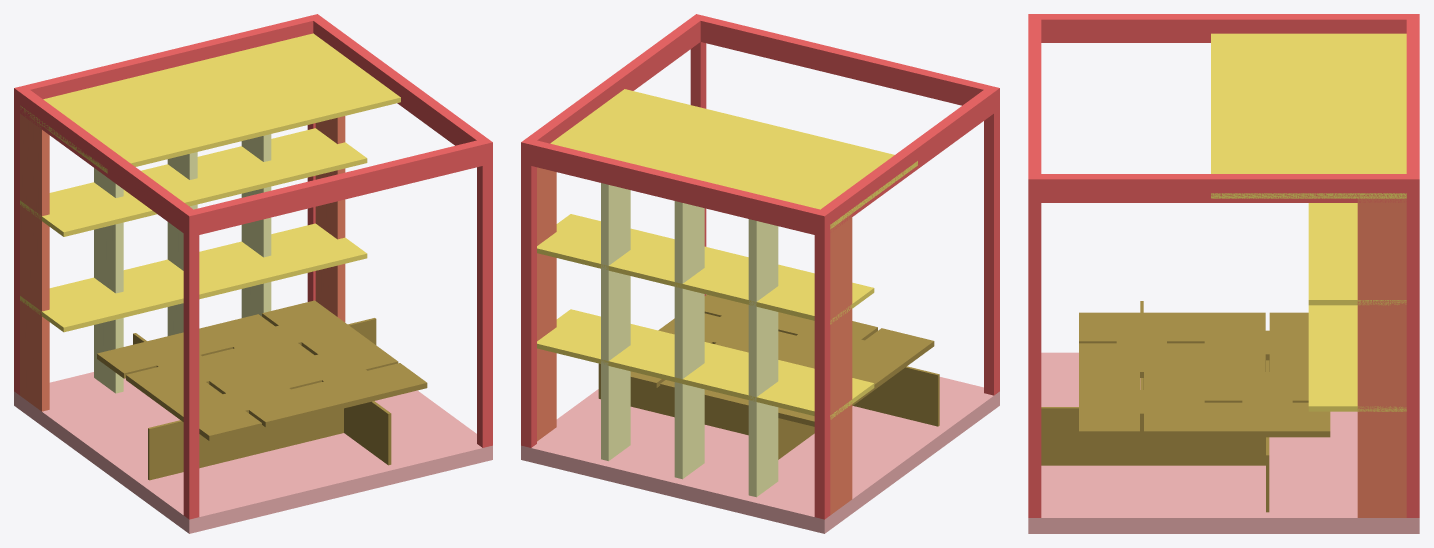
3 views of the same model, side by side, from view 1: azimuth 30°, elevation 25°; view 2: azimuth 150°, elevation 25°; view 3: azimuth 270°, elevation 25° (orthographic). The views are drawn at different scales.
Parts seen in each view (by area): view 1: 物件_9, 物件_3, 物件_1, 物件_2, 物件_4, 物件_16, 物件_25, 物件_23, 物件_21, 物件_22, 物件_19, 物件_14 (+11 smaller); view 2: 物件_9, 物件_3, 物件_1, 物件_2, 物件_15, 物件_5, 物件_16, 物件_6, 物件_7, 物件_4, 物件_13, 物件_14 (+12 smaller); view 3: 物件_3, 物件_9, 物件_8, 物件_17, 物件_14, 物件_25, 物件_24, 物件_23, 物件_21, 物件_19, 物件_1, 物件_2 (+4 smaller).
Part boxes in pixels (x1=…): 物件_9: x1=14, y1=372, x2=492, y2=533; 物件_3: x1=20, y1=33, x2=400, y2=173; 物件_1: x1=20, y1=223, x2=367, y2=332; 物件_2: x1=20, y1=128, x2=367, y2=236; 物件_4: x1=20, y1=110, x2=49, y2=411; 物件_16: x1=184, y1=138, x2=492, y2=235; 物件_25: x1=262, y1=341, x2=427, y2=414; 物件_23: x1=153, y1=368, x2=318, y2=441; 物件_21: x1=206, y1=300, x2=370, y2=367; 物件_22: x1=148, y1=408, x2=343, y2=480; 物件_19: x1=97, y1=327, x2=261, y2=399; 物件_14: x1=14, y1=89, x2=199, y2=235; 物件_9: x1=521, y1=377, x2=999, y2=533; 物件_3: x1=550, y1=89, x2=917, y2=229; 物件_1: x1=537, y1=309, x2=874, y2=419; 物件_2: x1=537, y1=214, x2=874, y2=324; 物件_15: x1=521, y1=138, x2=830, y2=234; 物件_5: x1=748, y1=219, x2=778, y2=497; 物件_16: x1=693, y1=15, x2=997, y2=105; 物件_6: x1=674, y1=201, x2=704, y2=479; 物件_7: x1=601, y1=183, x2=630, y2=461; 物件_4: x1=830, y1=214, x2=852, y2=514; 物件_13: x1=814, y1=210, x2=830, y2=519; 物件_14: x1=814, y1=85, x2=999, y2=236; 物件_3: x1=1211, y1=33, x2=1406, y2=198; 物件_9: x1=1028, y1=352, x2=1419, y2=533; 物件_8: x1=1357, y1=198, x2=1406, y2=517; 物件_17: x1=1029, y1=174, x2=1419, y2=202; 物件_14: x1=1028, y1=14, x2=1419, y2=42; 物件_25: x1=1079, y1=372, x2=1204, y2=437; 物件_24: x1=1041, y1=407, x2=1265, y2=465; 物件_23: x1=1079, y1=312, x2=1204, y2=377; 物件_21: x1=1204, y1=372, x2=1330, y2=437; 物件_19: x1=1204, y1=312, x2=1308, y2=371; 物件_1: x1=1308, y1=305, x2=1406, y2=411; 物件_2: x1=1308, y1=203, x2=1406, y2=305.
Bounding box in the file's own units: 48 × 48 × 48.
